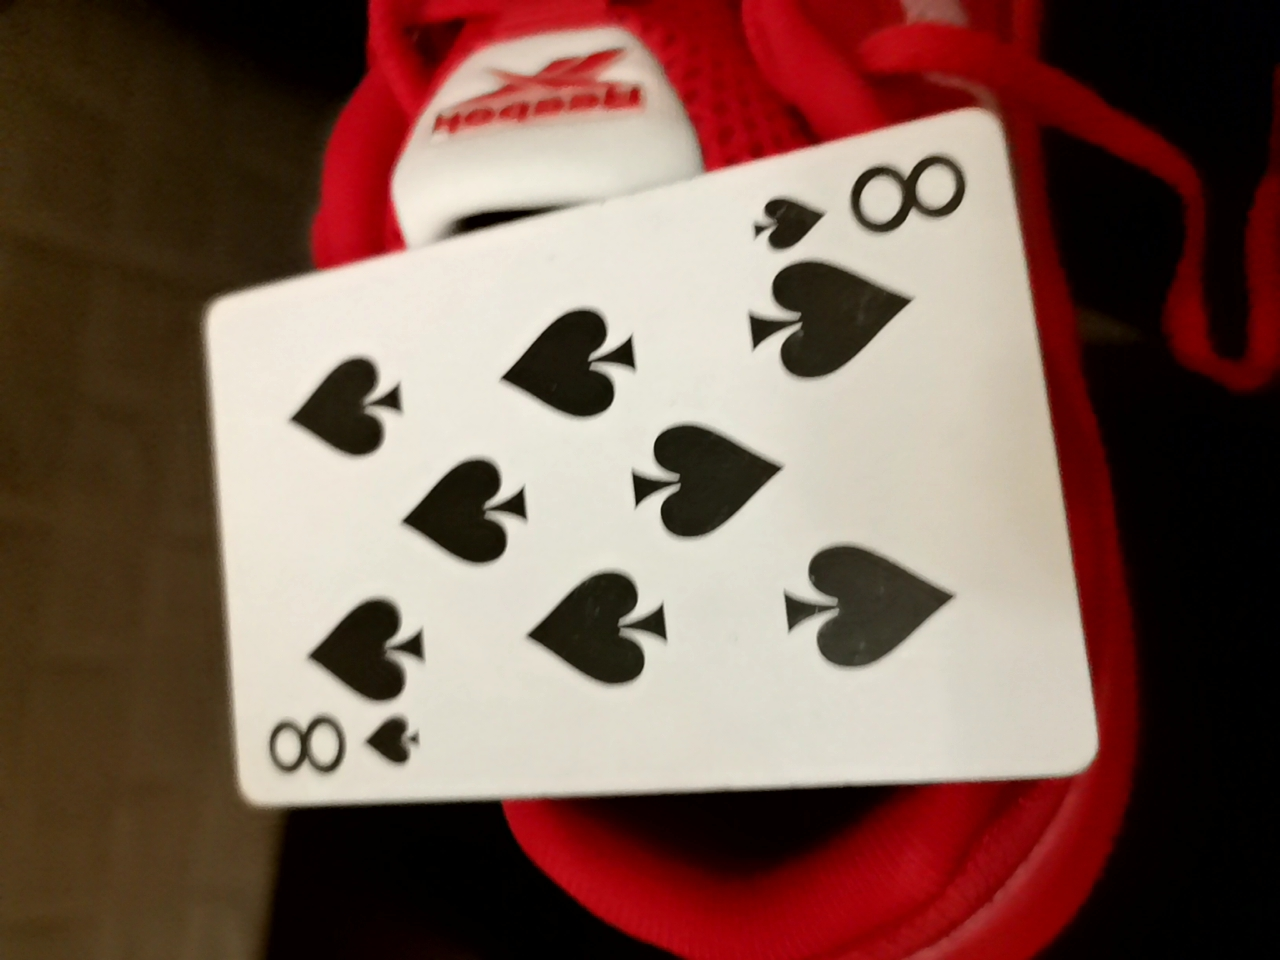ht 8: (137, 108, 1104, 849)
